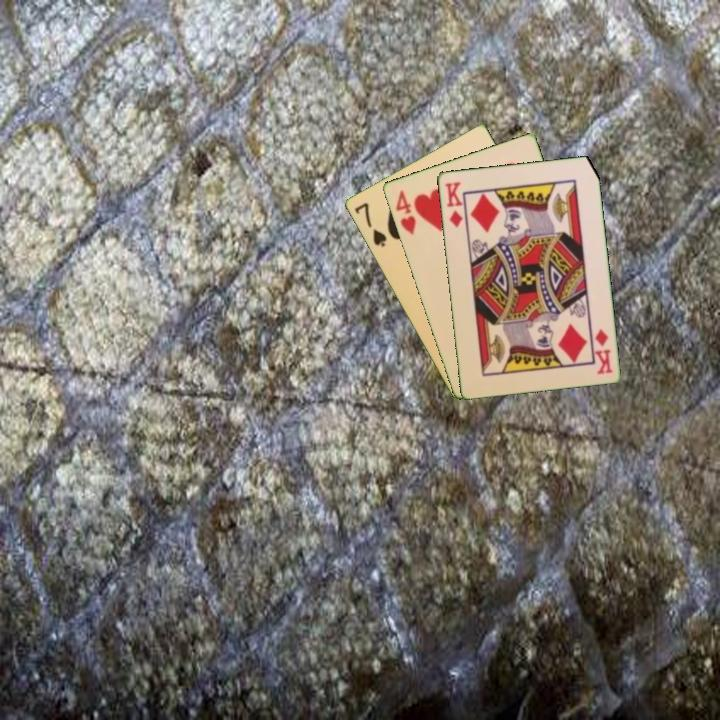4h: (392, 186, 418, 238)
7s: (351, 199, 389, 250)
Kd: (441, 178, 465, 230), (591, 325, 615, 377)
